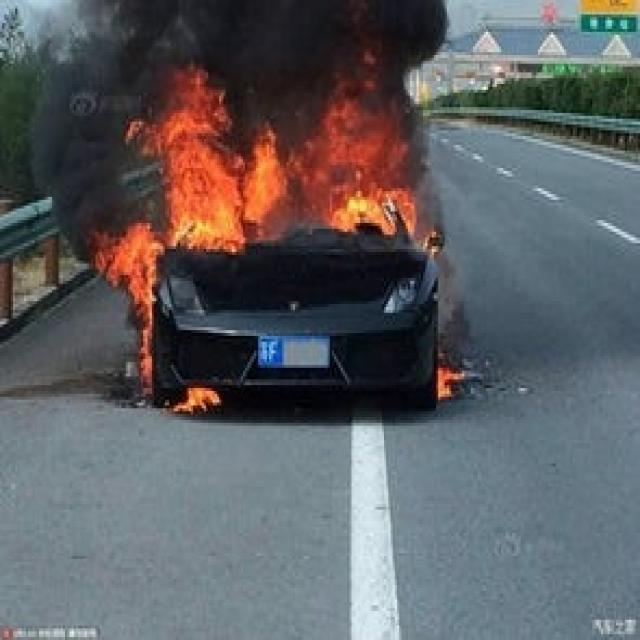Smoke: (24, 0, 472, 350)
